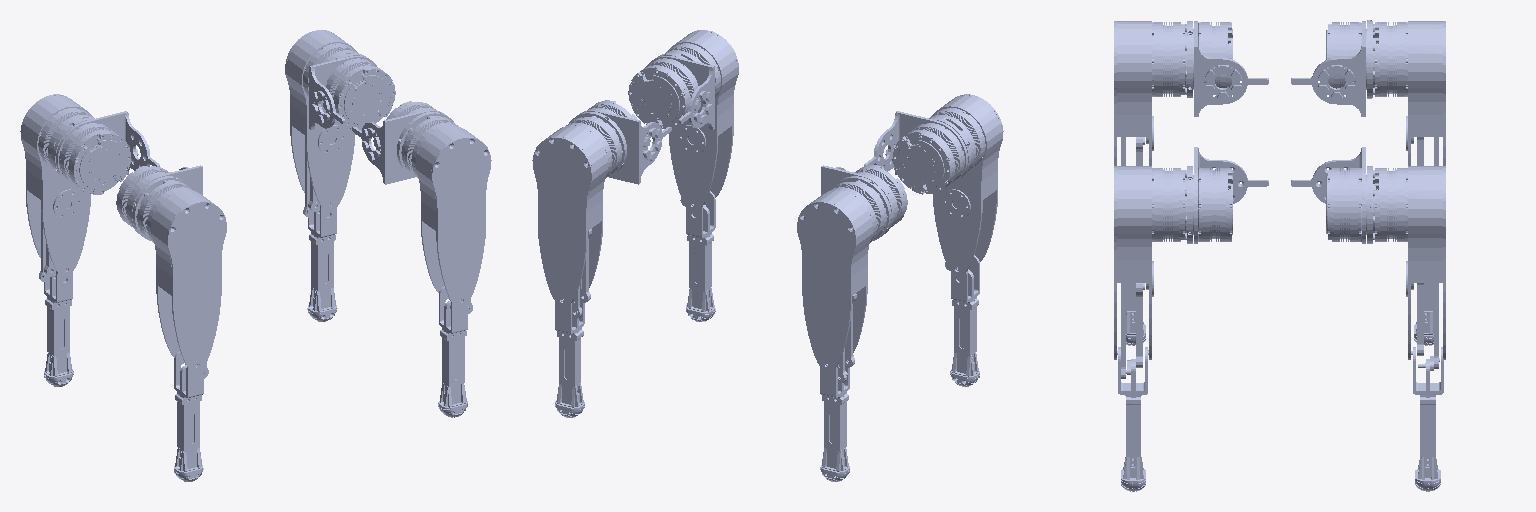
robot.urdf — Flip:
<?xml version="1.0" encoding="utf-8"?>
<robot name="Flip">

  <mujoco>
    <compiler discardvisual="false" meshdir="../meshes"/>
  </mujoco>


  <link name="base">
    <visual>
      <origin rpy="0 0 0" xyz="0 0 0"/>
      <geometry>
        <box size="0.001 0.001 0.001"/>
      </geometry>
    </visual>
  </link>
  <joint name="floating_base" type="fixed">
    <origin rpy="0 0 0" xyz="0 0 0"/>
    <parent link="base"/>
    <child link="base_link"/>
  </joint>

  <link name="base_link">
    <inertial>
      <origin xyz="4.704E-10 1.3261E-05 1.1869E-05" rpy="0 0 0" />
      <mass value="10.00" />
      <inertia ixx="0.060682" ixy="0.000009" ixz="0.000009" iyy="0.105733" iyz="-0.0000014" izz="0.137478" />
    </inertial>
    <visual>
      <origin xyz="0 0 -0.085" rpy="0 0 1.572" />
      <geometry>
        <mesh filename="../meshes/base_link.STL" />
      </geometry>
      <material name="">
        <color rgba="0.79216 0.81961 0.93333 1" />
      </material>
    </visual>
    <collision>
      <origin xyz="0 0 0.0"/>
      <geometry>
        <box size="0.33 0.3 0.15"/>
      </geometry>
    </collision>
  </link>
  <link name="FL_hip_link">
    <inertial>
      <origin xyz="-0.011921 0.022247 1.01E-05" rpy="0 0 0" />
      <mass value="1.20" />
      <inertia ixx="0.001018" ixy="-0.000132" ixz="0.000004" iyy="0.001179" iyz="0" izz="0.001497" />
    </inertial>
    <visual>
      <origin xyz="0 0 0" rpy="0 0 0" />
      <geometry>
        <mesh filename="../meshes/FL_hip_link.STL" />
      </geometry>
      <material name="">
        <color rgba="0.79216 0.81961 0.93333 1" />
      </material>
    </visual>
    <collision>
      <origin xyz="0 0.01 0" rpy="1.5708 0 0" />
      <geometry>
        <cylinder radius="0.053" length="0.05" />
      </geometry>
    </collision>
  </link>
  <joint name="FL_hip_joint" type="revolute">
    <origin xyz="0.2425 0.08 0" rpy="0 0 0" />
    <parent link="base_link" />
    <child link="FL_hip_link" />
    <axis xyz="1 0 0" />
    <limit lower="-0.7" upper="0.7" effort="30" velocity="16" />
  </joint>
  <link name="FL_thigh_link">
    <inertial>
      <origin xyz="-2.8472E-06 -0.018859 -0.040751" rpy="0 0 0" />
      <mass value="1.927" />
      <inertia ixx="0.009667" ixy="0.000001" ixz="-0.000003" iyy="0.008114" iyz="0.000271" izz="0.002812" />
    </inertial>
    <visual>
      <origin xyz="0 -0.065 0" rpy="0 0 0" />
      <geometry>
        <mesh filename="../meshes/FL_thigh_link.STL" />
      </geometry>
      <material name="">
        <color rgba="0.79216 0.81961 0.93333 1" />
      </material>
    </visual>
    <collision>
      <origin xyz="0 0.0 0" rpy="1.5708 0 0" />
      <geometry>
        <cylinder radius="0.053" length="0.08" />
      </geometry>
    </collision>
    <collision>
      <origin xyz="0 0.01 -0.12" rpy="0 0 0" />
      <geometry>
        <box size="0.08 0.06 0.15"/>
      </geometry>
    </collision>
    <collision>
      <origin xyz="0 0.01 -0.21" rpy="0 0 0" />
      <geometry>
        <box size="0.04 0.06 0.03"/>
      </geometry>
    </collision>
  </link>
  <joint name="FL_thigh_joint" type="revolute">
    <origin xyz="0 0.1154 0" rpy="0 0 0" />
    <parent link="FL_hip_link" />
    <child link="FL_thigh_link" />
    <axis xyz="0 1 0" />
    <limit lower="-2.3" upper="2.3" effort="30" velocity="16" />
  </joint>
  <link name="FL_calf_link">
    <inertial>
      <origin xyz="2.1985E-08 0.013 -0.11786" rpy="0 0 0" />
      <mass value="0.4430" />
      <inertia ixx="0.002" ixy="0" ixz="0" iyy="0.002" iyz="0.000001" izz="0.000048" />
    </inertial>
    <visual>
      <origin xyz="0 0.038 0" rpy="0 0 0" />
      <geometry>
        <mesh filename="../meshes/FL_calf_link.STL" />
      </geometry>
      <material name="">
        <color rgba="0.79216 0.81961 0.93333 1" />
      </material>
    </visual>
    <collision>
      <origin xyz="0 0.013 -0.09" rpy="0 0 0" />
      <geometry>
        <box size="0.035 0.025 0.17"/>
      </geometry>
    </collision>
  </link>
  <joint name="FL_calf_joint" type="revolute">
    <origin xyz="0 0 -0.23" rpy="0 0 0" />
    <parent link="FL_thigh_link" />
    <child link="FL_calf_link" />
    <axis xyz="0 1 0" />
    <limit lower="-2.56" upper="2.0" effort="30" velocity="16" />
  </joint>
  <link name="FL_foot_link">
    <inertial>
      <origin xyz="7.4385E-14 0.013 0.01" rpy="0 0 0" />
      <mass value="0.06545" />
      <inertia ixx="1.6362E-05" ixy="-2.647E-22" ixz="-9.9262E-23" iyy="1.6362E-05" iyz="-2.4815E-22" izz="1.6362E-05" />
    </inertial>
    <visual>
      <origin xyz="0 0 0" rpy="0 0 0" />
      <geometry>
        <mesh filename="../meshes/FL_foot_link.STL" />
      </geometry>
      <material name="">
        <color rgba="0.79216 0.81961 0.93333 1" />
      </material>
    </visual>
    <collision>
      <origin xyz="0 0.013 0.01" rpy="0 0 0" />
      <geometry>
        <sphere radius="0.02" />
      </geometry>
    </collision>
  </link>
  <joint name="FL_foot_joint" type="fixed" dont_collapse="true">
    <origin xyz="0 0 -0.205" rpy="0 0 0" />
    <parent link="FL_calf_link" />
    <child link="FL_foot_link" />
  </joint>
  <link name="FR_hip_link">
    <inertial>
      <origin xyz="-0.011921 -0.022247 -1.01E-05" rpy="0 0 0" />
      <mass value="1.20" />
      <inertia ixx="0.001018" ixy="0.000132" ixz="-0.000004" iyy="0.001179" iyz="0" izz="0.001497" />
    </inertial>
    <visual>
      <origin xyz="0 0 0" rpy="0 0 0" />
      <geometry>
        <mesh filename="../meshes/FR_hip_link.STL" />
      </geometry>
      <material name="">
        <color rgba="0.79216 0.81961 0.93333 1" />
      </material>
    </visual>
    <collision>
      <origin xyz="0 -0.01 0" rpy="1.5708 0 0" />
      <geometry>
        <cylinder radius="0.053" length="0.05" />
      </geometry>
    </collision>
  </link>
  <joint name="FR_hip_joint" type="revolute">
    <origin xyz="0.2425 -0.08 0" rpy="0 0 0" />
    <parent link="base_link" />
    <child link="FR_hip_link" />
    <axis xyz="1 0 0" />
    <limit lower="-0.7" upper="0.7" effort="30" velocity="16" />
  </joint>
  <link name="FR_thigh_link">
    <inertial>
      <origin xyz="2.8472E-06 0.018859 -0.040751" rpy="0 0 0" />
      <mass value="1.9270" />
      <inertia ixx="0.009667" ixy="0.000001" ixz="-0.000003" iyy="0.008114" iyz="-0.000271" izz="0.002812" />
    </inertial>
    <visual>
      <origin xyz="0 0.065 0" rpy="0 0 0" />
      <geometry>
        <mesh filename="../meshes/FR_thigh_link.STL" />
      </geometry>
      <material name="">
        <color rgba="0.79216 0.81961 0.93333 1" />
      </material>
    </visual>
    <collision>
      <origin xyz="0 0.0 0" rpy="1.5708 0 0" />
      <geometry>
        <cylinder radius="0.053" length="0.08" />
      </geometry>
    </collision>
    <collision>
      <origin xyz="0 -0.01 -0.12" rpy="0 0 0" />
      <geometry>
        <box size="0.08 0.06 0.15"/>
      </geometry>
    </collision>
    <collision>
      <origin xyz="0 -0.01 -0.21" rpy="0 0 0" />
      <geometry>
        <box size="0.04 0.06 0.03"/>
      </geometry>
    </collision>
  </link>
  <joint name="FR_thigh_joint" type="revolute">
    <origin xyz="0 -0.115400008463964 0" rpy="0 0 0" />
    <parent link="FR_hip_link" />
    <child link="FR_thigh_link" />
    <axis xyz="0 1 0" />
    <limit lower="-2.3" upper="2.3" effort="30" velocity="16" />
  </joint>
  <link name="FR_calf_link">
    <inertial>
      <origin xyz="2.1985E-08 -0.013 -0.11786" rpy="0 0 0" />
      <mass value="0.4430" />
      <inertia ixx="0.002" ixy="0" ixz="0" iyy="0.002" iyz="-0.000001" izz="0.000048" />
    </inertial>
    <visual>
      <origin xyz="0 -0.038 0" rpy="0 0 0" />
      <geometry>
        <mesh filename="../meshes/FR_calf_link.STL" />
      </geometry>
      <material name="">
        <color rgba="0.79216 0.81961 0.93333 1" />
      </material>
    </visual>
    <collision>
      <origin xyz="0 -0.013 -0.09" rpy="0 0 0" />
      <geometry>
        <box size="0.035 0.025 0.17"/>
      </geometry>
    </collision>
  </link>
  <joint name="FR_calf_joint" type="revolute">
    <origin xyz="0 0 -0.23" rpy="0 0 0" />
    <parent link="FR_thigh_link" />
    <child link="FR_calf_link" />
    <axis xyz="0 1 0" />
    <limit lower="-2.56" upper="2.0" effort="30" velocity="16" />
  </joint>
  <link name="FR_foot_link">
    <inertial>
      <origin xyz="7.4385E-14 -0.013 0.01" rpy="0 0 0" />
      <mass value="0.06545" />
      <inertia ixx="1.6362E-05" ixy="2.647E-22" ixz="-9.9262E-23" iyy="1.6362E-05" iyz="2.4815E-22" izz="1.6362E-05" />
    </inertial>
    <visual>
      <origin xyz="0 0 0" rpy="0 0 0" />
      <geometry>
        <mesh filename="../meshes/FR_foot_link.STL" />
      </geometry>
      <material name="">
        <color rgba="0.79216 0.81961 0.93333 1" />
      </material>
    </visual>
    <collision>
      <origin xyz="0 -0.013 0.01" rpy="0 0 0" />
      <geometry>
        <sphere radius="0.02" />
      </geometry>
    </collision>
  </link>
  <joint name="FR_foot_joint" type="fixed" dont_collapse="true">
    <origin xyz="0 0 -0.205" rpy="0 0 0" />
    <parent link="FR_calf_link" />
    <child link="FR_foot_link" />
  </joint>
  <link name="RL_hip_link">
    <inertial>
      <origin xyz="0.011921 0.022247 -1.01E-05" rpy="0 0 0" />
      <mass value="1.20" />
      <inertia ixx="0.001018" ixy="0.000132" ixz="0.000004" iyy="0.001179" iyz="0" izz="0.001497" />
    </inertial>
    <visual>
      <origin xyz="0 0 0" rpy="0 0 0" />
      <geometry>
        <mesh filename="../meshes/RL_hip_link.STL" />
      </geometry>
      <material name="">
        <color rgba="0.79216 0.81961 0.93333 1" />
      </material>
    </visual>
    <collision>
      <origin xyz="0 0.01 0" rpy="1.5708 0 0" />
      <geometry>
        <cylinder radius="0.053" length="0.05" />
      </geometry>
    </collision>
  </link>
  <joint name="RL_hip_joint" type="revolute">
    <origin xyz="-0.2425 0.08 0" rpy="0 0 0" />
    <parent link="base_link" />
    <child link="RL_hip_link" />
    <axis xyz="1 0 0" />
    <limit lower="-0.7" upper="0.7" effort="30" velocity="16" />
  </joint>
  <link name="RL_thigh_link">
    <inertial>
      <origin xyz="-2.8472E-06 -0.018859 -0.040751" rpy="0 0 0" />
      <mass value="1.9270" />
      <inertia ixx="0.009667" ixy="0.000001" ixz="-0.000003" iyy="0.008114" iyz="0.000271" izz="0.002812" />
    </inertial>
    <visual>
      <origin xyz="0 -0.065 0" rpy="0 0 0" />
      <geometry>
        <mesh filename="../meshes/RL_thigh_link.STL" />
      </geometry>
      <material name="">
        <color rgba="0.79216 0.81961 0.93333 1" />
      </material>
    </visual>
    <collision>
      <origin xyz="0 0 0" rpy="1.5708 0 0" />
      <geometry>
        <cylinder radius="0.053" length="0.08" />
      </geometry>
    </collision>
    <collision>
      <origin xyz="0 0.01 -0.12" rpy="0 0 0" />
      <geometry>
        <box size="0.08 0.06 0.15"/>
      </geometry>
    </collision>
    <collision>
      <origin xyz="0 0.01 -0.21" rpy="0 0 0" />
      <geometry>
        <box size="0.04 0.06 0.03"/>
      </geometry>
    </collision>
  </link>
  <joint name="RL_thigh_joint" type="revolute">
    <origin xyz="0 0.1154 0" rpy="0 0 0" />
    <parent link="RL_hip_link" />
    <child link="RL_thigh_link" />
    <axis xyz="0 1 0" />
    <limit lower="-2.3" upper="2.3" effort="30" velocity="16" />
  </joint>
  <link name="RL_calf_link">
    <inertial>
      <origin xyz="2.1985E-08 0.013 -0.11786" rpy="0 0 0" />
      <mass value="0.4430" />
      <inertia ixx="0.002" ixy="0" ixz="0" iyy="0.002" iyz="0.000001" izz="0.000048" />
    </inertial>
    <visual>
      <origin xyz="0 0.038 0" rpy="0 0 0" />
      <geometry>
        <mesh filename="../meshes/RL_calf_link.STL" />
      </geometry>
      <material name="">
        <color rgba="0.79216 0.81961 0.93333 1" />
      </material>
    </visual>
    <collision>
      <origin xyz="0 0.013 -0.09" rpy="0 0 0" />
      <geometry>
        <box size="0.035 0.025 0.17"/>
      </geometry>
    </collision>
  </link>
  <joint name="RL_calf_joint" type="revolute">
    <origin xyz="0 0 -0.23" rpy="0 0 0" />
    <parent link="RL_thigh_link" />
    <child link="RL_calf_link" />
    <axis xyz="0 1 0" />
    <limit lower="-2.56" upper="2.0" effort="30" velocity="16" />
  </joint>
  <link name="RL_foot_link">
    <inertial>
      <origin xyz="-5.837E-14 0.013 0.01" rpy="0 0 0" />
      <mass value="0.06545" />
      <inertia ixx="1.6362E-05" ixy="1.0206E-21" ixz="-2.0225E-22" iyy="1.6362E-05" iyz="5.7436E-22" izz="1.6362E-05" />
    </inertial>
    <visual>
      <origin xyz="0 0 0" rpy="0 0 0" />
      <geometry>
        <mesh filename="../meshes/RL_foot_link.STL" />
      </geometry>
      <material name="">
        <color rgba="0.79216 0.81961 0.93333 1" />
      </material>
    </visual>
    <collision>
      <origin xyz="0 0.013 0.01" rpy="0 0 0" />
      <geometry>
        <sphere radius="0.02" />
      </geometry>
    </collision>
  </link>
  <joint name="RL_foot_joint" type="fixed" dont_collapse="true">
    <origin xyz="0 0 -0.205" rpy="0 0 0" />
    <parent link="RL_calf_link" />
    <child link="RL_foot_link" />
  </joint>
  <link name="RR_hip_link">
    <inertial>
      <origin xyz="0.011921 -0.022247 1.01E-05" rpy="0 0 0" />
      <mass value="1.20" />
      <inertia ixx="0.001018" ixy="-0.000132" ixz="-0.000004" iyy="0.001179" iyz="-0" izz="0.001497" />
    </inertial>
    <visual>
      <origin xyz="0 0 0" rpy="0 0 0" />
      <geometry>
        <mesh filename="../meshes/RR_hip_link.STL" />
      </geometry>
      <material name="">
        <color rgba="0.79216 0.81961 0.93333 1" />
      </material>
    </visual>
    <collision>
      <origin xyz="0 -0.01 0" rpy="1.5708 0 0" />
      <geometry>
        <cylinder radius="0.053" length="0.05" />
      </geometry>
    </collision>
  </link>
  <joint name="RR_hip_joint" type="revolute">
    <origin xyz="-0.2425 -0.08 0" rpy="0 0 0" />
    <parent link="base_link" />
    <child link="RR_hip_link" />
    <axis xyz="1 0 0" />
    <limit lower="-0.7" upper="0.7" effort="30" velocity="16" />
  </joint>
  <link name="RR_thigh_link">
    <inertial>
      <origin xyz="2.8472E-06 0.018859 -0.040751" rpy="0 0 0" />
      <mass value="1.9270" />
      <inertia ixx="0.009667" ixy="0.000001" ixz="0.000003" iyy="0.008114" iyz="-0.000271" izz="0.002812" />
    </inertial>
    <visual>
      <origin xyz="0 0.065 0" rpy="0 0 0" />
      <geometry>
        <mesh filename="../meshes/RR_thigh_link.STL" />
      </geometry>
      <material name="">
        <color rgba="0.79216 0.81961 0.93333 1" />
      </material>
    </visual>
    <collision>
      <origin xyz="0 0 0" rpy="1.5708 0 0" />
      <geometry>
        <cylinder radius="0.053" length="0.08" />
      </geometry>
    </collision>
    <collision>
      <origin xyz="0 -0.01 -0.12" rpy="0 0 0" />
      <geometry>
        <box size="0.08 0.06 0.15"/>
      </geometry>
    </collision>
    <collision>
      <origin xyz="0 -0.01 -0.21" rpy="0 0 0" />
      <geometry>
        <box size="0.04 0.06 0.03"/>
      </geometry>
    </collision>
  </link>
  <joint name="RR_thigh_joint" type="revolute">
    <origin xyz="0 -0.1154 0" rpy="0 0 0" />
    <parent link="RR_hip_link" />
    <child link="RR_thigh_link" />
    <axis xyz="0 1 0" />
    <limit lower="-2.3" upper="2.3" effort="30" velocity="16" />
  </joint>
  <link name="RR_calf_link">
    <inertial>
      <origin xyz="2.1985E-08 -0.013 -0.11786" rpy="0 0 0" />
      <mass value="0.4430" />
      <inertia ixx="0.002" ixy="0" ixz="0" iyy="0.002" iyz="-0.000001" izz="0.000048" />
    </inertial>
    <visual>
      <origin xyz="0 -0.038 0" rpy="0 0 0" />
      <geometry>
        <mesh filename="../meshes/RR_calf_link.STL" />
      </geometry>
      <material name="">
        <color rgba="0.79216 0.81961 0.93333 1" />
      </material>
    </visual>
    <collision>
      <origin xyz="0 -0.013 -0.09" rpy="0 0 0" />
      <geometry>
        <box size="0.035 0.025 0.17"/>
      </geometry>
    </collision>
  </link>
  <joint name="RR_calf_joint" type="revolute">
    <origin xyz="0 0 -0.23" rpy="0 0 0" />
    <parent link="RR_thigh_link" />
    <child link="RR_calf_link" />
    <axis xyz="0 1 0" />
    <limit lower="-2.56" upper="2.0" effort="30" velocity="16" />
  </joint>
  <link name="RR_foot_link">
    <inertial>
      <origin xyz="-5.837E-14 -0.013 0.01" rpy="0 0 0" />
      <mass value="0.06545" />
      <inertia ixx="1.6362E-05" ixy="-1.0206E-21" ixz="-2.0225E-22" iyy="1.6362E-05" iyz="-5.7436E-22" izz="1.6362E-05" />
    </inertial>
    <visual>
      <origin xyz="0 0 0" rpy="0 0 0" />
      <geometry>
        <mesh filename="../meshes/RR_foot_link.STL" />
      </geometry>
      <material name="">
        <color rgba="0.79216 0.81961 0.93333 1" />
      </material>
    </visual>
    <collision>
      <origin xyz="0 -0.013 0.01" rpy="0 0 0" />
      <geometry>
        <sphere radius="0.02" />
      </geometry>
    </collision>
  </link>
  <joint name="RR_foot_joint" type="fixed" dont_collapse="true">
    <origin xyz="0 0 -0.205" rpy="0 0 0" />
    <parent link="RR_calf_link" />
    <child link="RR_foot_link" />
  </joint>
</robot>

--- What the picture shows (computed from the rendered views, not written in the file) ---
The picture shows the robot from 3 angles, left to right: view 1: azimuth 30°, elevation 25°; view 2: azimuth 150°, elevation 25°; view 3: azimuth 270°, elevation 25°; orthographic projection.
Robot: Flip — 18 links, 17 joints (12 revolute, 5 fixed); root link base; default pose: every joint at zero.
Links seen in each view (by area): view 1: RR_thigh_link, FR_thigh_link, RL_thigh_link, FL_thigh_link, RL_hip_link, FL_hip_link, RR_calf_link, FR_calf_link, RL_calf_link, FL_calf_link, FR_hip_link, RR_hip_link; view 2: RL_thigh_link, FL_thigh_link, RR_thigh_link, FR_thigh_link, RR_hip_link, FR_hip_link, FR_calf_link, RR_calf_link, RL_calf_link, FL_calf_link, FL_hip_link, RL_hip_link; view 3: FR_thigh_link, FL_thigh_link, RR_thigh_link, RL_thigh_link, RL_hip_link, FL_hip_link, RR_hip_link, FR_hip_link, FL_calf_link, FR_calf_link, RL_calf_link, RR_calf_link.
Link boxes in pixels (<box>): RR_thigh_link: <box>132,176,226,378</box>; FR_thigh_link: <box>397,112,491,313</box>; RL_thigh_link: <box>20,94,94,281</box>; FL_thigh_link: <box>285,30,368,217</box>; RL_hip_link: <box>56,111,159,194</box>; FL_hip_link: <box>309,56,395,130</box>; RR_calf_link: <box>174,351,204,481</box>; FR_calf_link: <box>438,286,468,417</box>; RL_calf_link: <box>42,267,73,386</box>; FL_calf_link: <box>307,203,337,321</box>; FR_hip_link: <box>352,101,443,184</box>; RR_hip_link: <box>116,165,202,233</box>; RL_thigh_link: <box>797,176,891,383</box>; FL_thigh_link: <box>532,112,626,318</box>; RR_thigh_link: <box>929,94,1003,274</box>; FR_thigh_link: <box>658,30,738,210</box>; RR_hip_link: <box>864,111,967,194</box>; FR_hip_link: <box>628,56,714,129</box>; FR_calf_link: <box>686,191,715,321</box>; RR_calf_link: <box>950,255,979,386</box>; RL_calf_link: <box>820,363,849,481</box>; FL_calf_link: <box>555,298,584,417</box>; FL_hip_link: <box>580,100,671,184</box>; RL_hip_link: <box>821,165,907,233</box>; FR_thigh_link: <box>1114,166,1192,378</box>; FL_thigh_link: <box>1367,166,1445,368</box>; RR_thigh_link: <box>1114,21,1192,165</box>; RL_thigh_link: <box>1367,20,1445,165</box>; RL_hip_link: <box>1291,21,1370,116</box>; FL_hip_link: <box>1291,147,1370,243</box>; RR_hip_link: <box>1193,21,1268,116</box>; FR_hip_link: <box>1193,147,1268,243</box>; FL_calf_link: <box>1411,347,1443,491</box>; FR_calf_link: <box>1117,347,1148,491</box>; RL_calf_link: <box>1414,283,1433,345</box>; RR_calf_link: <box>1126,283,1145,345</box>.
Bounding box of the posed robot: 0.5946 × 0.4679 × 0.498 m (x, y, z).
Meshes: 17 distinct files referenced, 16 mesh visuals loaded (16 binary STL); not drawn: 1 (reference not matched to a file when rendering).
